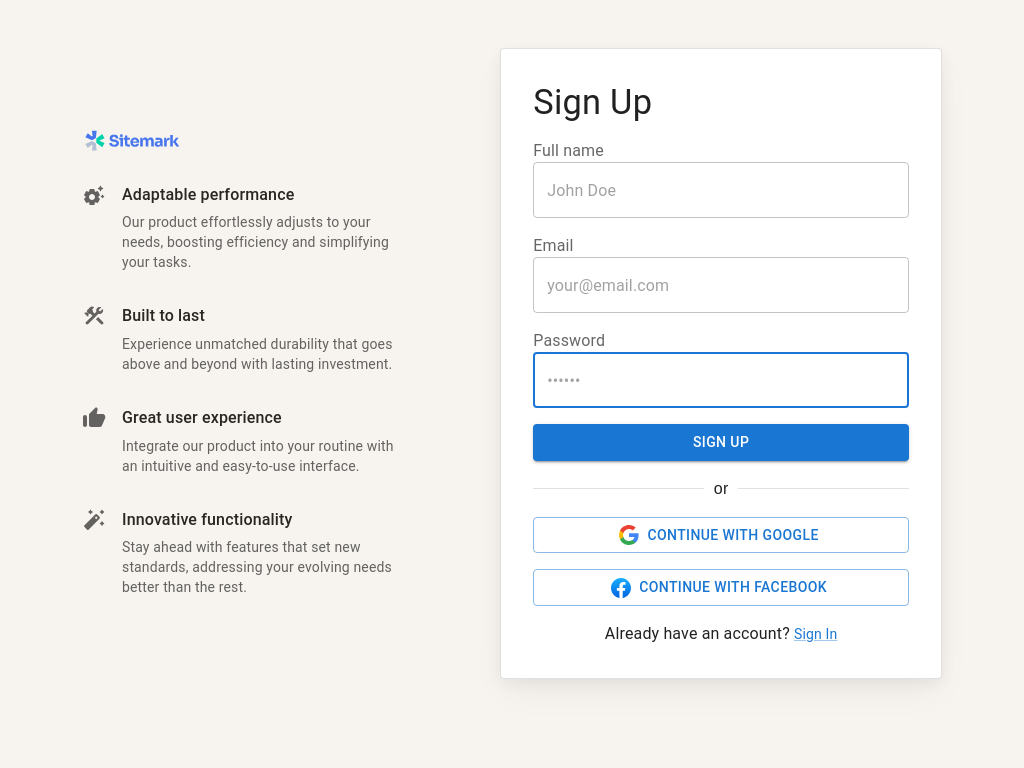
Test: authentication form integration › blocks an empty registration form before it reaches the API
Step 1. Click the button "Sign Up" → (721, 443), box [533, 424, 909, 461]
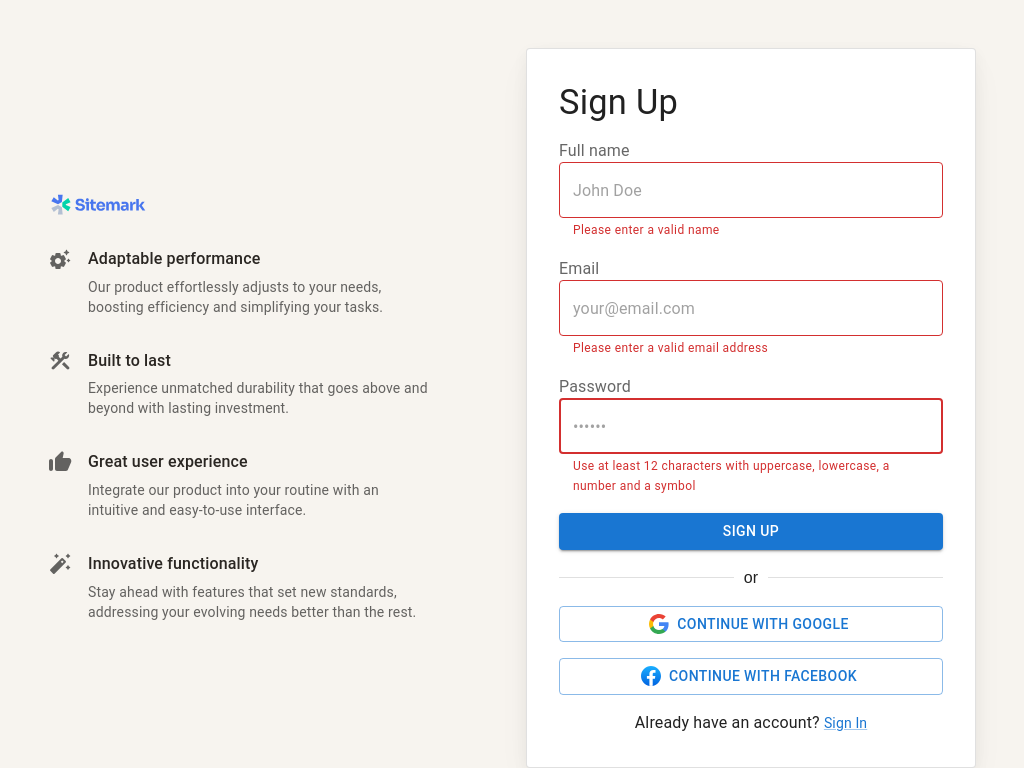
Result: the text "Please enter a valid name" is shown at [573, 224, 720, 238]
Result: the text "Please enter a valid email address" is shown at [573, 341, 768, 355]
Result: the text "Use at least 12 characters with uppercase, lowercase, a number and a symbol" is shown at [573, 457, 929, 497]
